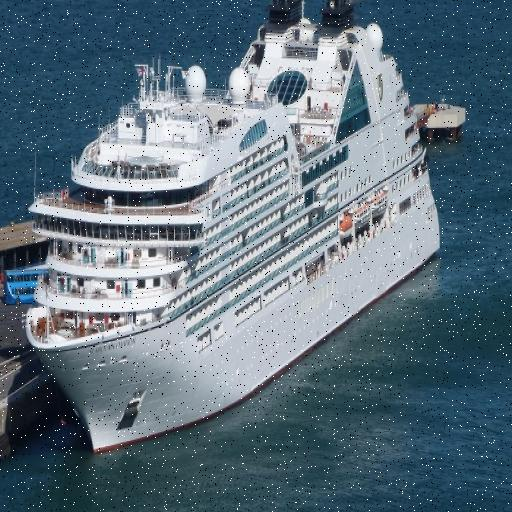cruises: (19, 1, 446, 465)
